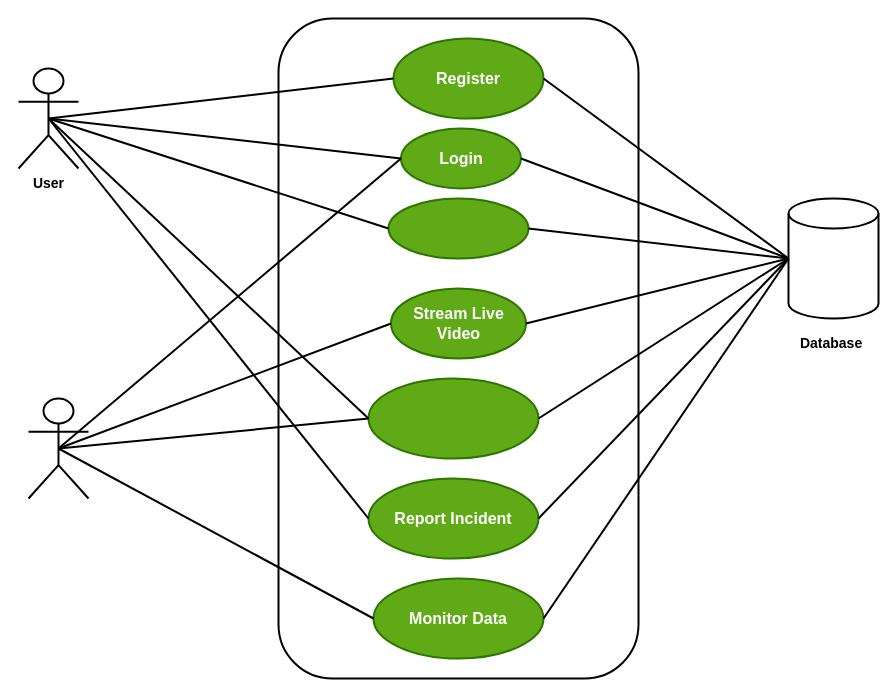
Some shapes in this 896 by 696 pixel diagram are drawn without their labels. The box of each missing label's shape, as (x1, y1, x2, y2) in pixels:
Admin: (27, 397, 89, 499)
View Incident Map: (367, 377, 539, 459)
View Map: (387, 197, 529, 259)
